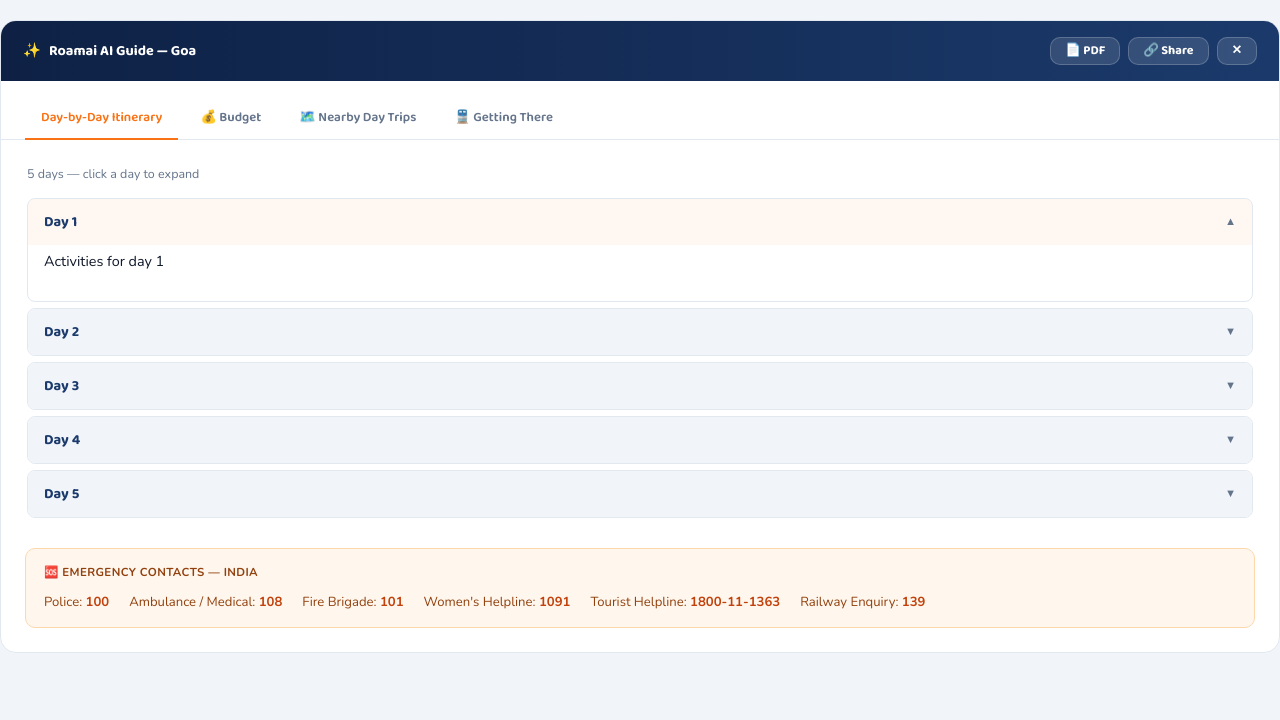
it: AIResultBox › expands a collapsed day when clicked
The image size is (1280, 720).
Click the button "Day 2 ▼".
click(62, 332)  # box [28,310,1252,356]
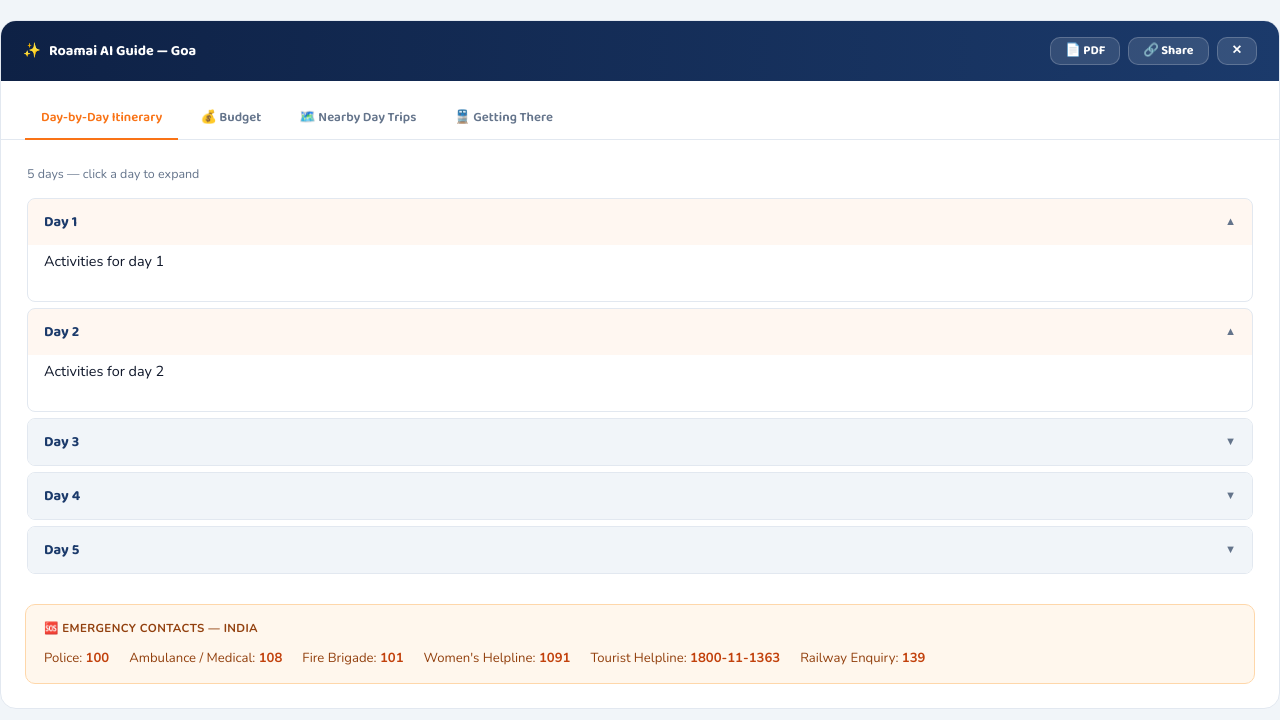
expect the text "Activities for day 2" is shown: met, box [44,362,164,382]
